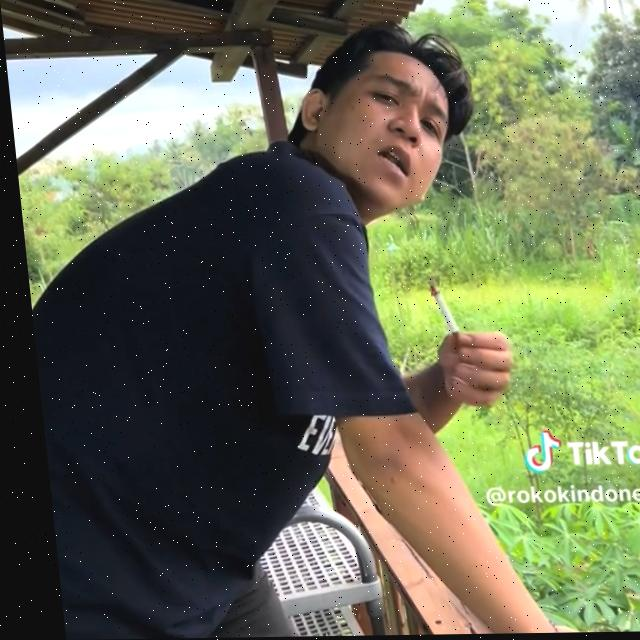cigarette: (422, 287, 454, 340)
